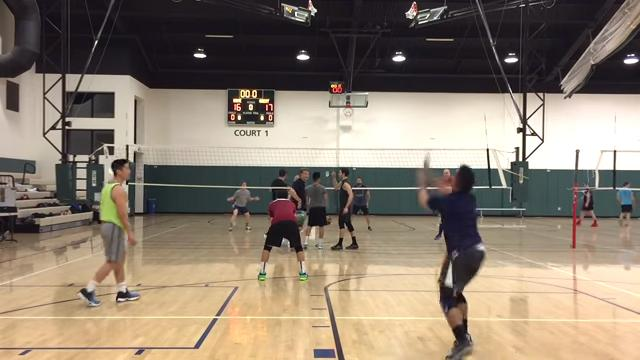battuta: (411, 151, 485, 359)
